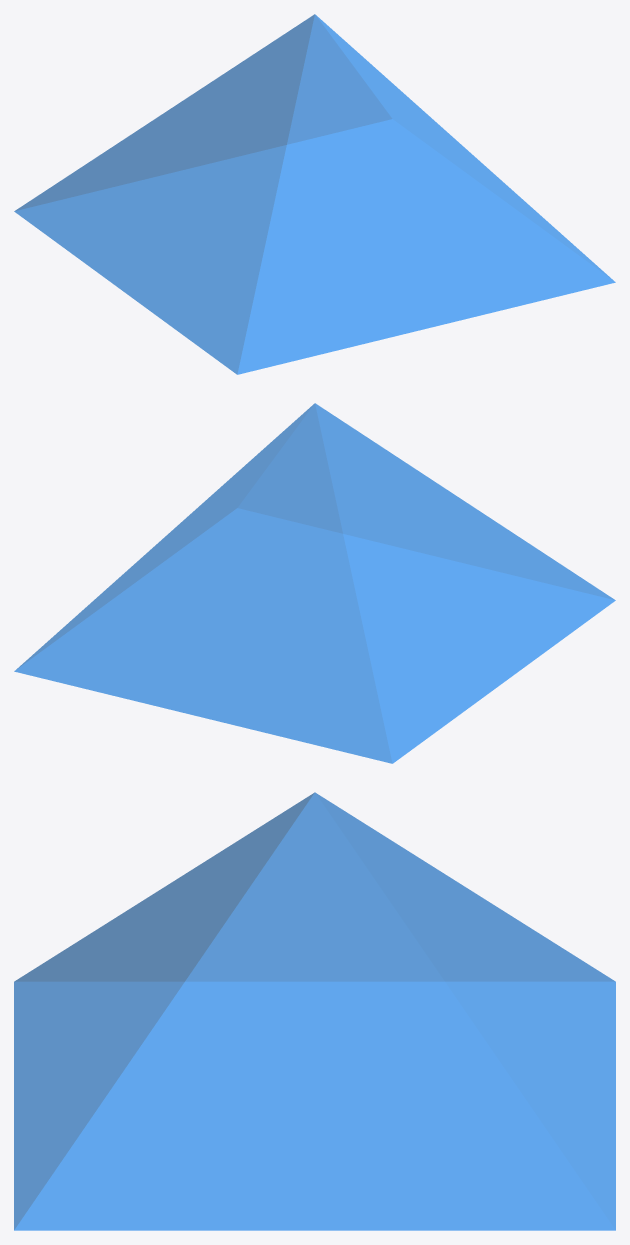
File: pyramide.fbx
3 renders of one model, top to bottom at view 1: azimuth 30°, elevation 25°; view 2: azimuth 150°, elevation 25°; view 3: azimuth 270°, elevation 25°, orthographic. The views are drawn at different scales.
Visible parts, largest first — view 1: Pyramid001; view 2: Pyramid001; view 3: Pyramid001.
Boxes of the visible parts, x1,y1,x2,y2 form: Pyramid001: (14, 14, 615, 374); Pyramid001: (14, 403, 615, 763); Pyramid001: (14, 792, 615, 1230).
Bounding box in the file's own units: 62.93 × 37 × 64.3.
